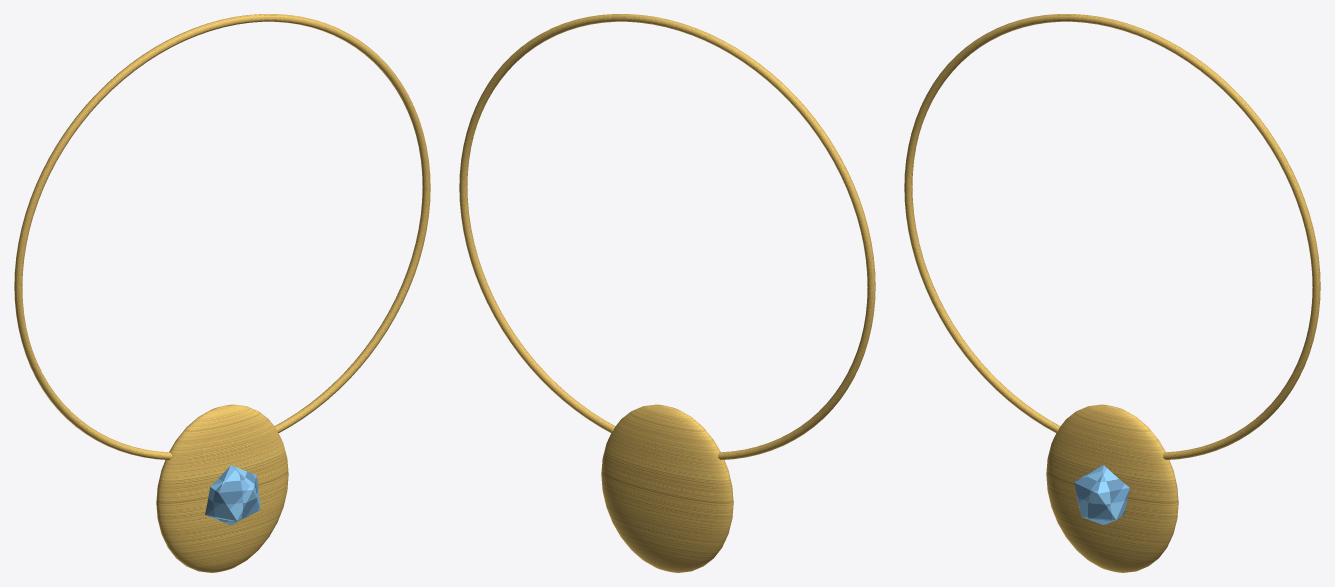
File: pendant.glb
The picture shows the model from 3 angles, left to right: view 1: azimuth 30°, elevation 25°; view 2: azimuth 150°, elevation 25°; view 3: azimuth 330°, elevation 25°; orthographic projection.
Visible parts, largest first — view 1: Sphere, Torus.003, Icosphere; view 2: Sphere, Torus.003; view 3: Sphere, Torus.003, Icosphere.
Boxes of the visible parts, x1,y1,x2,y2 form: Sphere: (156, 404, 288, 572); Torus.003: (14, 14, 430, 459); Icosphere: (205, 465, 260, 524); Sphere: (601, 404, 733, 572); Torus.003: (459, 14, 875, 459); Sphere: (1046, 404, 1178, 572); Torus.003: (904, 14, 1320, 459); Icosphere: (1074, 465, 1129, 525).
Size of the model in its own units: 2.85 by 3.61 by 0.3826.
2 materials, 2 textured.
